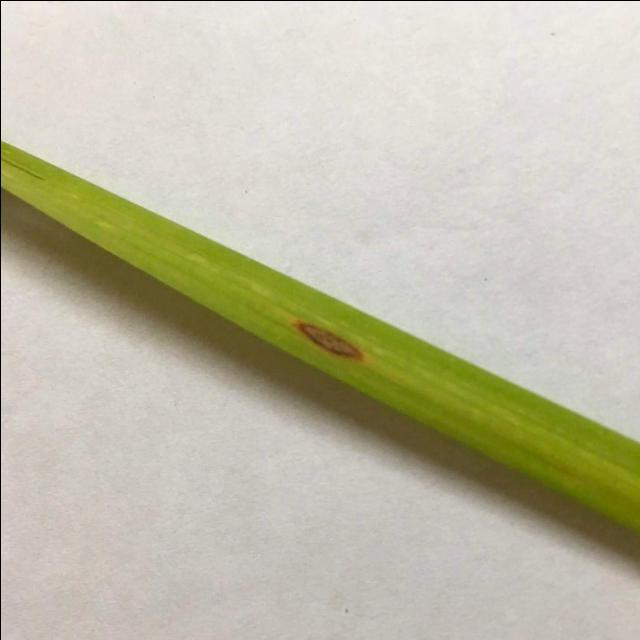Leaf blast: (0, 106, 640, 565)
